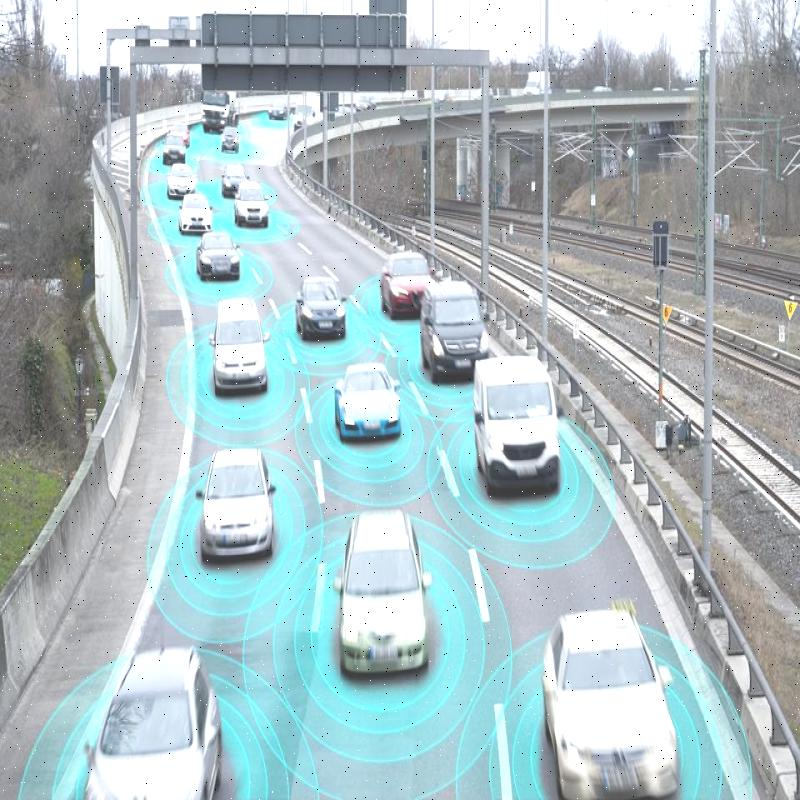car: (542, 600, 701, 800), (72, 630, 222, 800), (334, 493, 433, 693), (199, 429, 287, 576), (203, 293, 284, 410), (324, 348, 399, 472), (468, 363, 534, 487), (423, 282, 489, 386), (379, 241, 444, 333), (299, 274, 352, 340), (199, 234, 243, 290), (189, 190, 220, 233), (237, 191, 266, 226)
